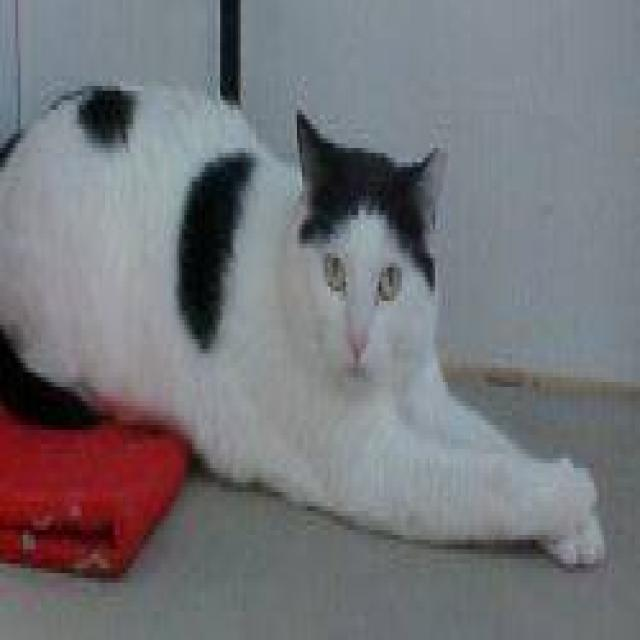cat: (0, 76, 607, 568)
